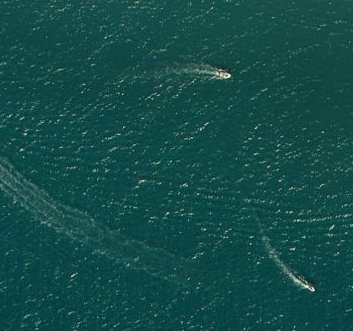ship: (212, 66, 235, 83), (299, 280, 319, 295)
